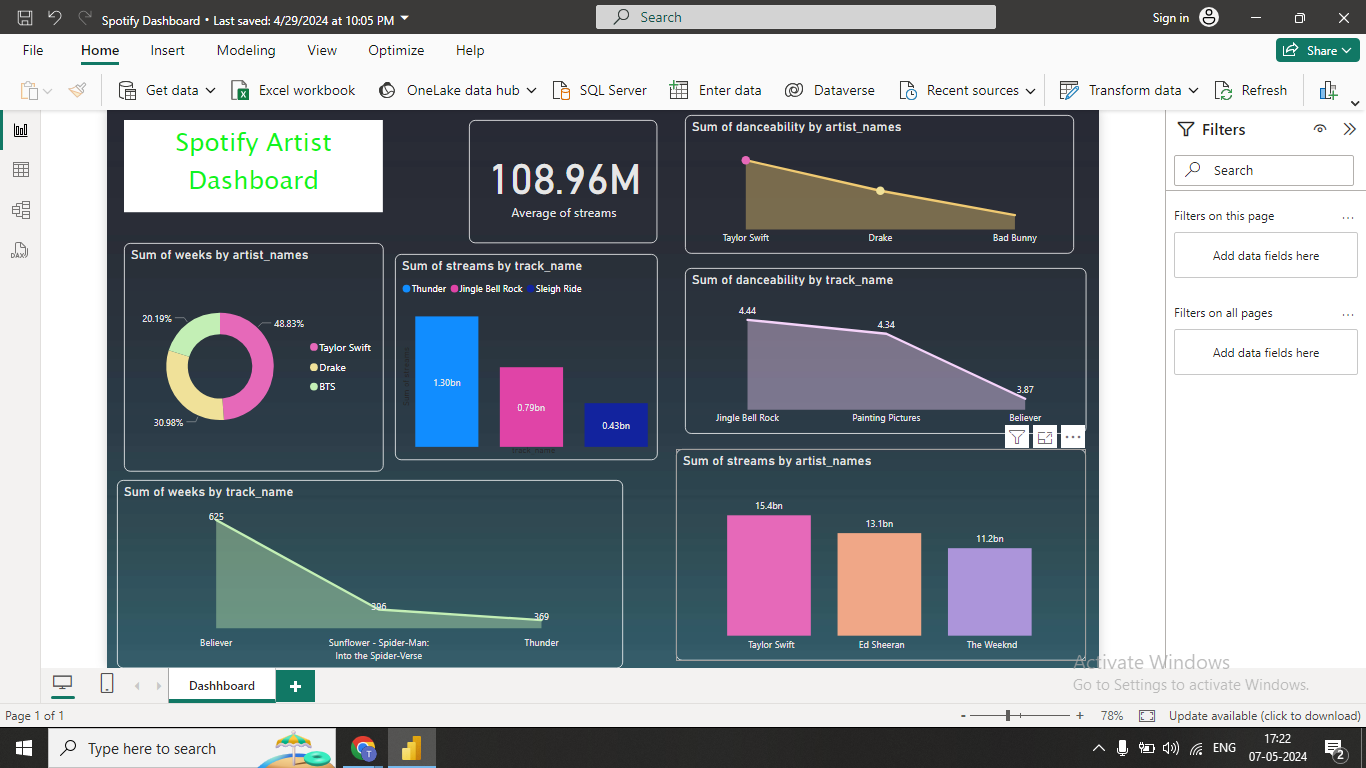

The page's visual inventory and layout, read from the dashboard file:
{"tool":"powerbi","page":{"name":"Dashhboard","canvas":[1280,720],"ordinal":0},"visuals":[{"type":"donutChart","title":"Sum of weeks by artist_names","fields":{"Category":["spotify_top_songs_audio_features.artist_names"],"Y":["spotify_top_songs_audio_features.weeks_on_chart"]},"box":[22.5,171.6,334.8,295.4],"z":0},{"type":"columnChart","title":"Sum of streams by track_name ","fields":{"Series":["spotify_top_songs_audio_features.track_name"],"Category":["spotify_top_songs_audio_features.track_name"],"Y":["spotify_top_songs_audio_features.streams"]},"box":[371.3,185.7,339,265.8],"z":1000},{"type":"areaChart","title":"Sum of weeks by track_name","fields":{"Category":["spotify_top_songs_audio_features.track_name"],"Y":["spotify_top_songs_audio_features.weeks_on_chart"]},"box":[12.7,476.8,652.7,243.3],"z":2000},{"type":"columnChart","fields":{"Y":["spotify_top_songs_audio_features.streams"],"Category":["spotify_top_songs_audio_features.artist_names"]},"box":[734.2,437.5,528.9,272.9],"z":3000},{"type":"card","fields":{"Values":["spotify_top_songs_audio_features.streams"]},"box":[467,12.7,243.3,158.9],"z":4000},{"type":"areaChart","fields":{"Y":["spotify_top_songs_audio_features.danceability"],"Category":["spotify_top_songs_audio_features.artist_names"]},"box":[745.5,7,502.2,178.6],"z":5000},{"type":"areaChart","fields":{"Y":["spotify_top_songs_audio_features.danceability"],"Category":["spotify_top_songs_audio_features.track_name"]},"box":[745.5,204,517.6,213.8],"z":6000},{"type":"textbox","box":[22.5,12.7,301,54.9],"z":7000}]}

Visuals, with their boxes on the page's 1280x720 design canvas (x1, y1, x2, y2). These are canvas units, not pixel positions in the 1366x768 screenshot, which may show the page scaled, cropped or inside an application window:
"Sum of weeks by artist_names" donutChart: bbox(22, 172, 357, 467)
"Sum of streams by track_name " columnChart: bbox(371, 186, 710, 452)
"Sum of weeks by track_name" areaChart: bbox(13, 477, 665, 720)
columnChart - spotify_top_songs_audio_features.streams x spotify_top_songs_audio_features.artist_names: bbox(734, 438, 1263, 710)
card - spotify_top_songs_audio_features.streams: bbox(467, 13, 710, 172)
areaChart - spotify_top_songs_audio_features.danceability x spotify_top_songs_audio_features.artist_names: bbox(746, 7, 1248, 186)
areaChart - spotify_top_songs_audio_features.danceability x spotify_top_songs_audio_features.track_name: bbox(746, 204, 1263, 418)
textbox: bbox(22, 13, 324, 68)
